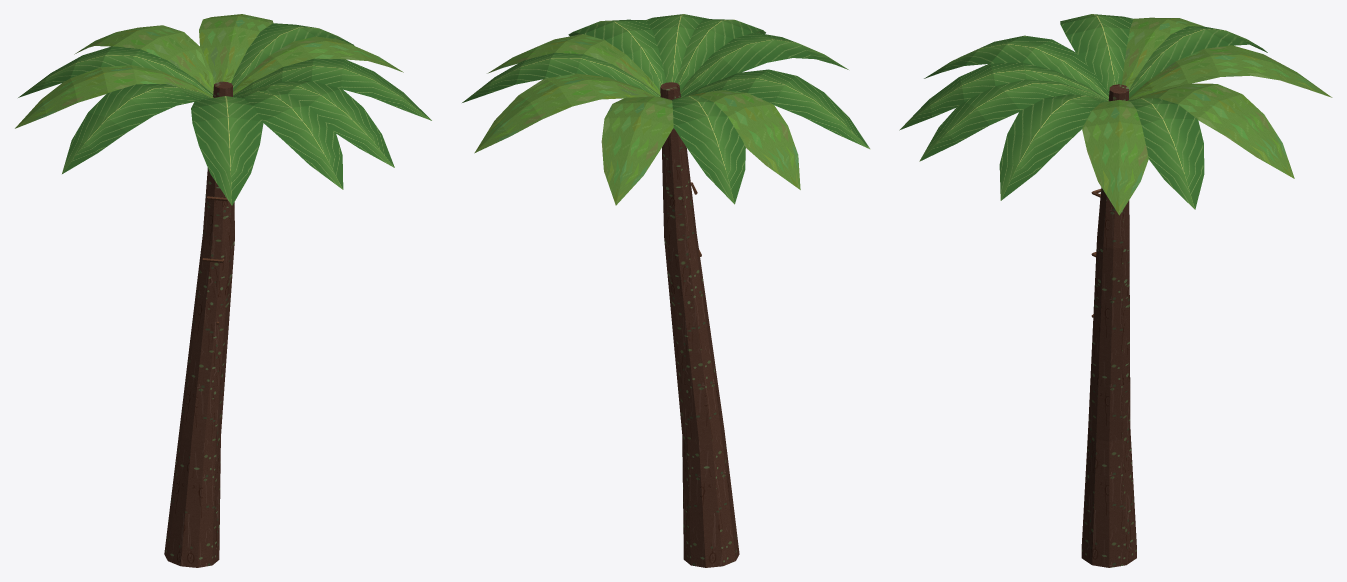
File: tree2.glb
3 renders of one model, left to right at view 1: azimuth 30°, elevation 25°; view 2: azimuth 150°, elevation 25°; view 3: azimuth 270°, elevation 25°, orthographic. The views are drawn at different scales.
Parts seen in each view (by area): view 1: LeaningPalm; view 2: LeaningPalm; view 3: LeaningPalm.
Part boxes in pixels (<box>): LeaningPalm: <box>15,14,431,567</box>; LeaningPalm: <box>462,14,870,567</box>; LeaningPalm: <box>899,14,1332,567</box>.
Size of the model in its own units: 4.36 by 5.56 by 4.31.
4 materials, 4 textured.
